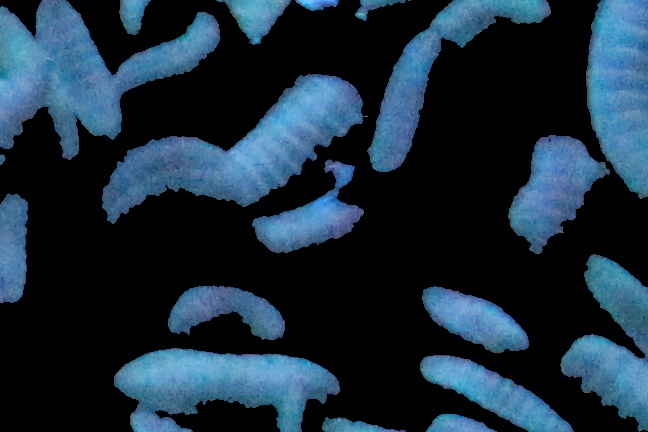larvae: (225, 72, 363, 195), (115, 348, 342, 414), (412, 344, 569, 432), (501, 129, 595, 257), (588, 1, 648, 198), (36, 1, 120, 138), (1, 12, 77, 158), (252, 161, 368, 256), (100, 136, 225, 222), (367, 32, 443, 171), (414, 278, 533, 356), (558, 328, 646, 432), (108, 14, 218, 89), (165, 283, 287, 345), (578, 251, 648, 351), (430, 1, 553, 44), (1, 194, 38, 308)
